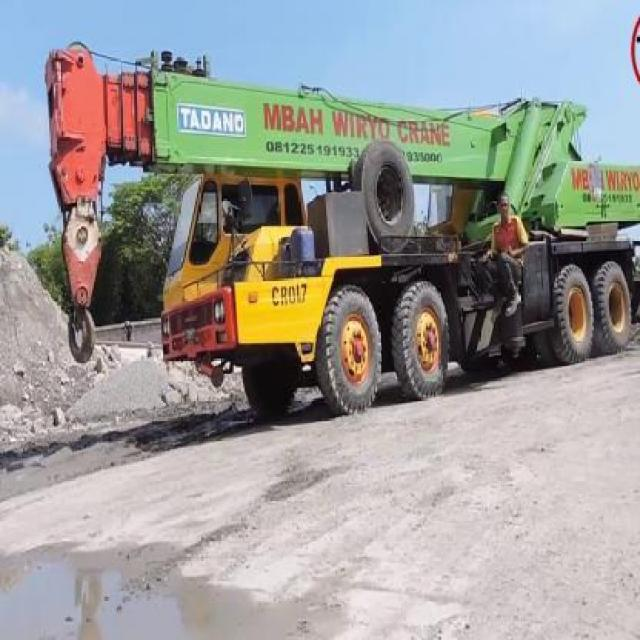Mobile Crane: (44, 29, 639, 417)
